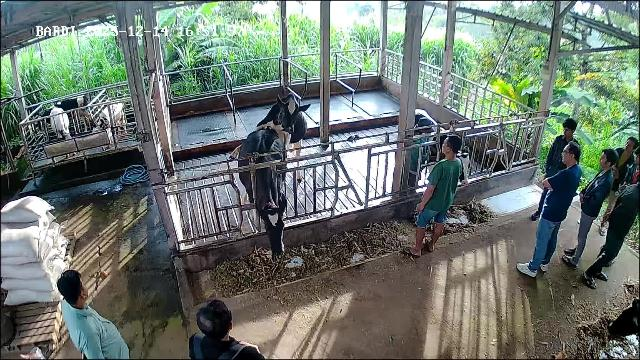mounting: (229, 91, 307, 184)
